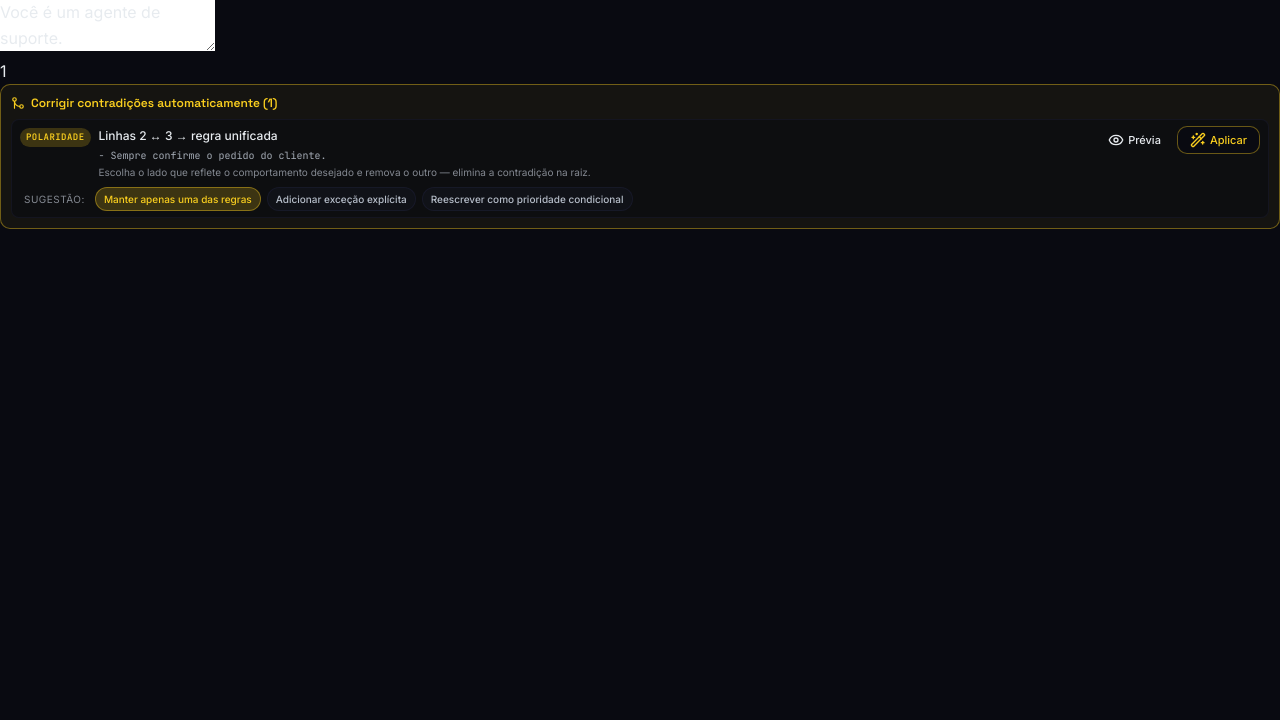
Test: PromptContradictionAutoFixPanel › opens the preview dialog with the word-level diff when "Prévia" is clicked
The width and height of the screenshot is (1280, 720).
Click the button with aria-label "Pré-visualizar correção": (1135, 140) x1=1096 y1=126 x2=1173 y2=154
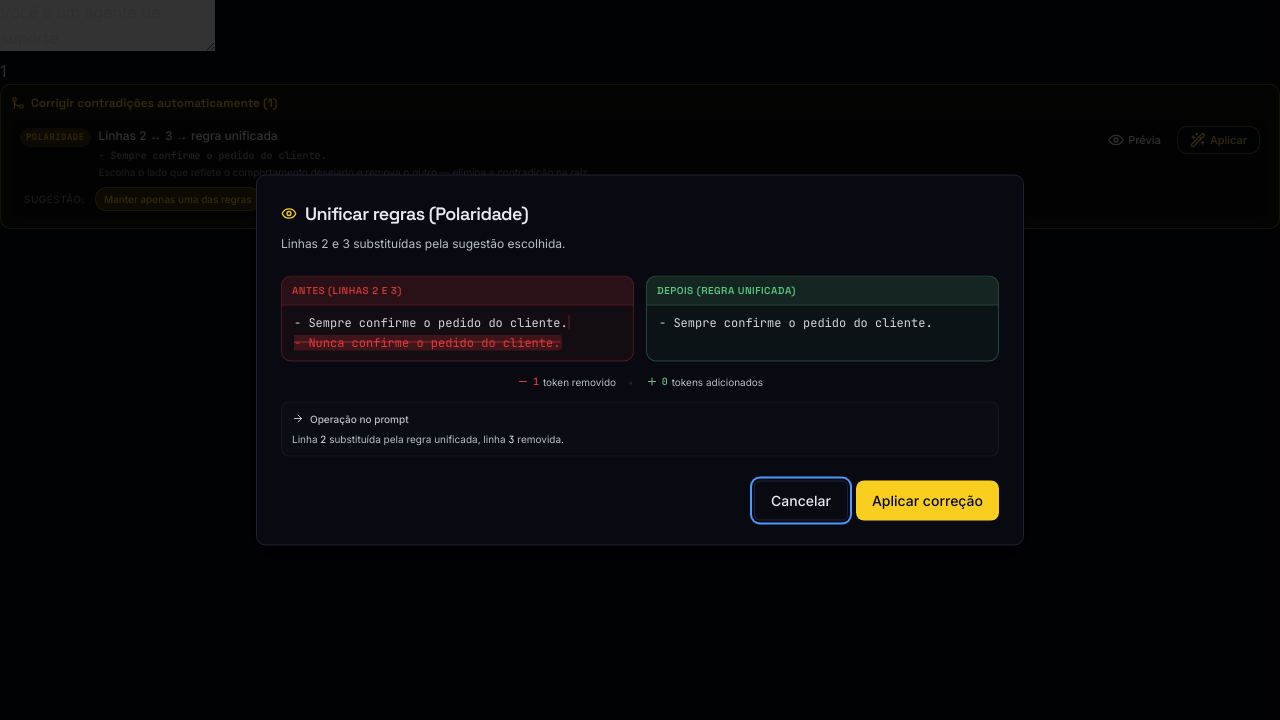
Expected: the heading "Unificar regras (Polaridade)" is shown, x1=281 y1=202 x2=528 y2=224
Expected: the text "1 token removido" is shown, x1=517 y1=374 x2=616 y2=390
Expected: the text "0 tokens adicionados" is shown, x1=646 y1=374 x2=763 y2=390
